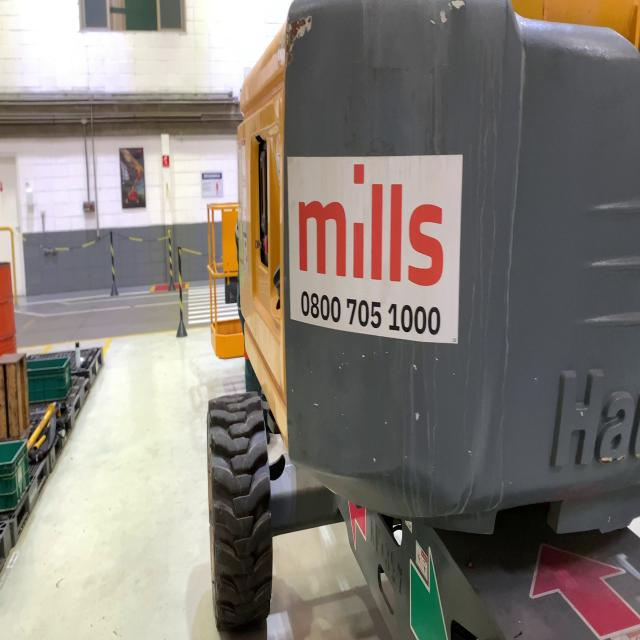Adesivos: (286, 151, 465, 349)
